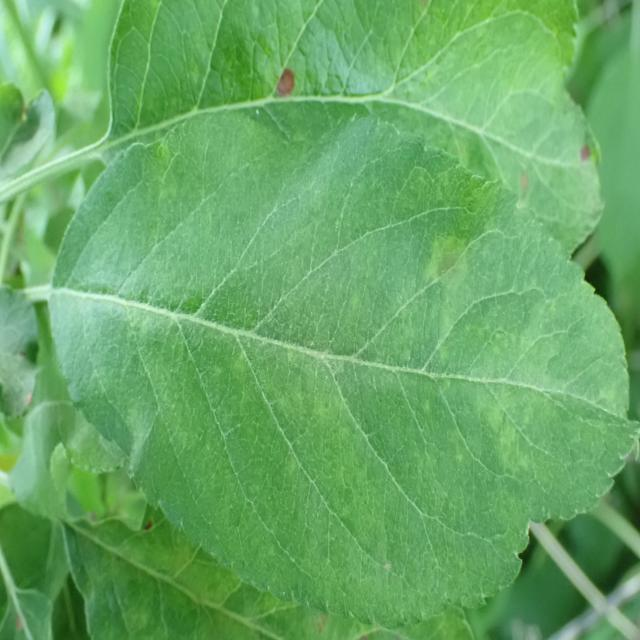Black Rot: (262, 59, 302, 111)
scab: (425, 153, 552, 485)
